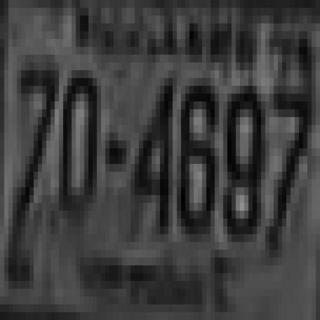N00: (61, 66, 99, 215)
N02: (13, 55, 55, 218)
N04: (130, 74, 172, 230)
N07: (265, 82, 312, 246)
N08: (177, 78, 215, 234)
N09: (221, 78, 263, 234)
